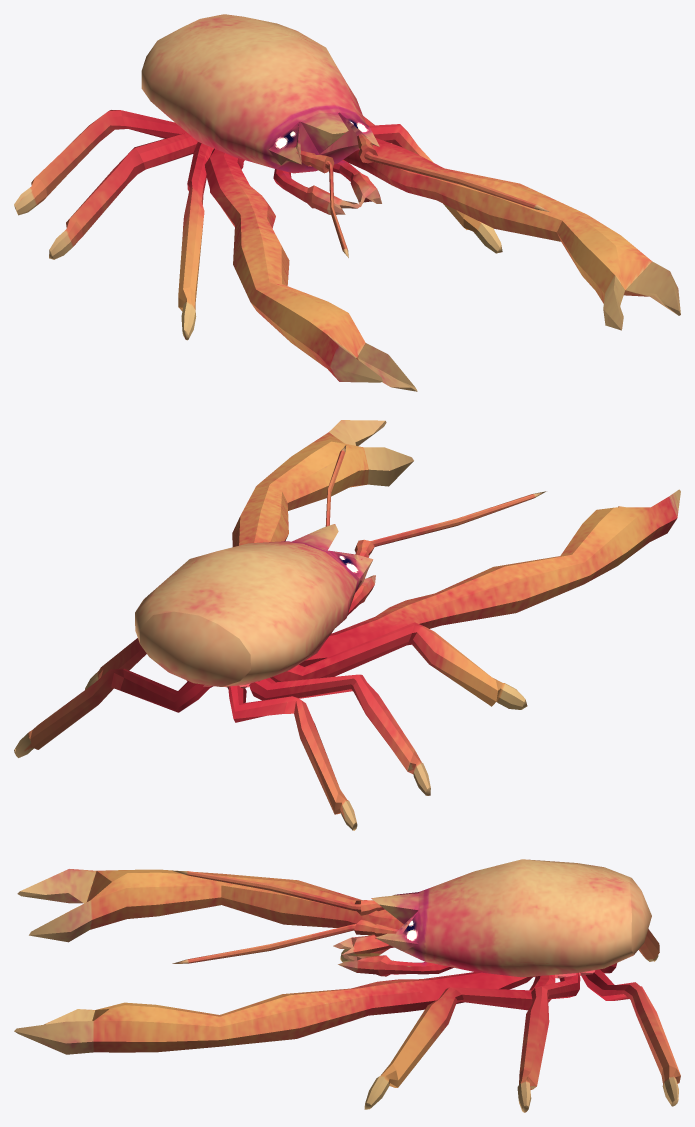
3 views of the same model, one above another, from view 1: azimuth 30°, elevation 25°; view 2: azimuth 150°, elevation 25°; view 3: azimuth 270°, elevation 25° (orthographic). The views are drawn at different scales.
Parts seen in each view (by area): view 1: YetiCrab; view 2: YetiCrab; view 3: YetiCrab.
Part boxes in pixels (x1,y1,x2,y2): YetiCrab: [14, 14, 680, 391]; YetiCrab: [14, 420, 680, 830]; YetiCrab: [14, 859, 680, 1112].
Bounding box in the file's own units: 1.9 × 0.9275 × 3.28.
1 material, 1 textured.
